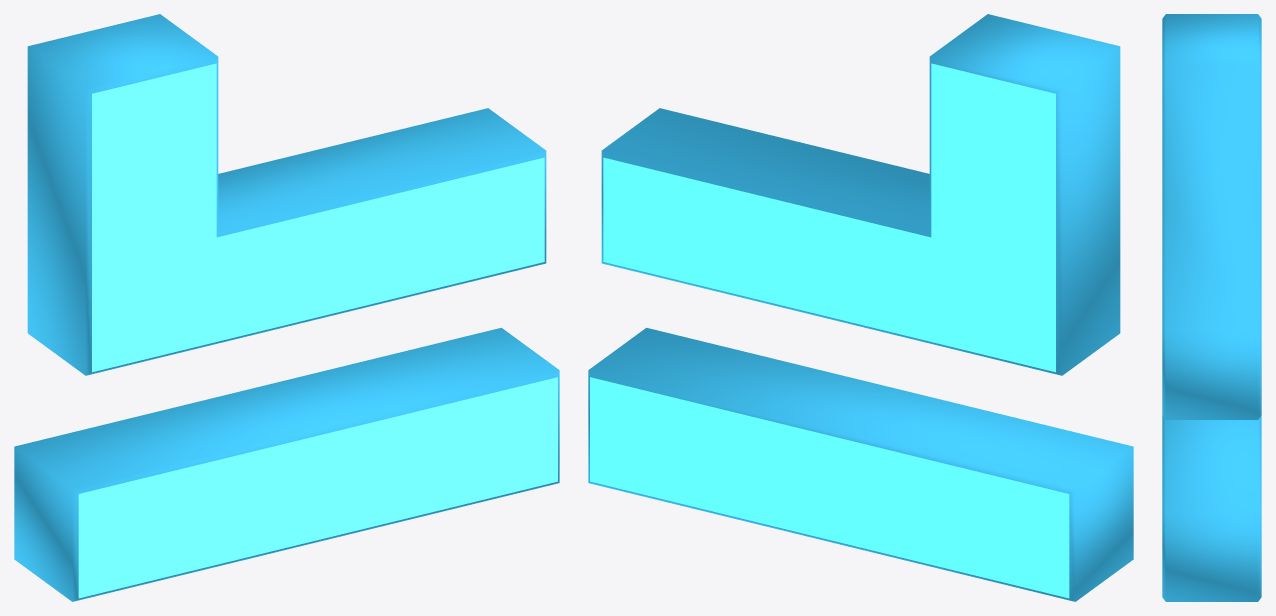
3 views of the same model, side by side, from view 1: azimuth 30°, elevation 25°; view 2: azimuth 150°, elevation 25°; view 3: azimuth 270°, elevation 25° (orthographic). The views are drawn at different scales.
Parts seen in each view (by area): view 1: glyph; view 2: glyph; view 3: glyph.
Boxes of the visible parts, x1=… form: glyph: x1=14, y1=14, x2=559, y2=601; glyph: x1=588, y1=14, x2=1133, y2=601; glyph: x1=1162, y1=14, x2=1261, y2=601.
Size of the model in its own units: 0.1009 by 0.1009 by 0.0225.
